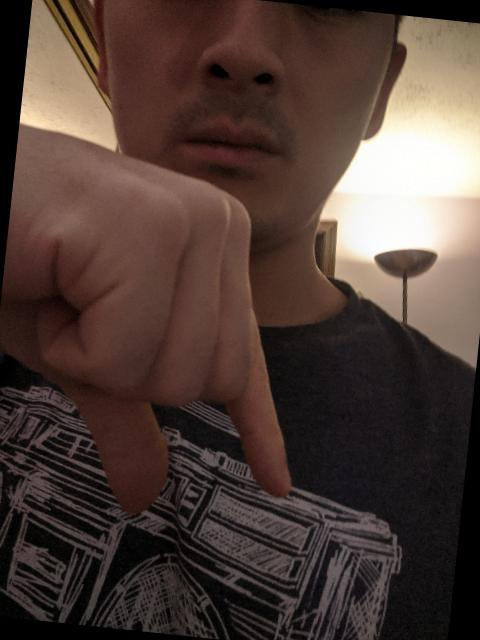Q: (0, 117, 334, 536)
